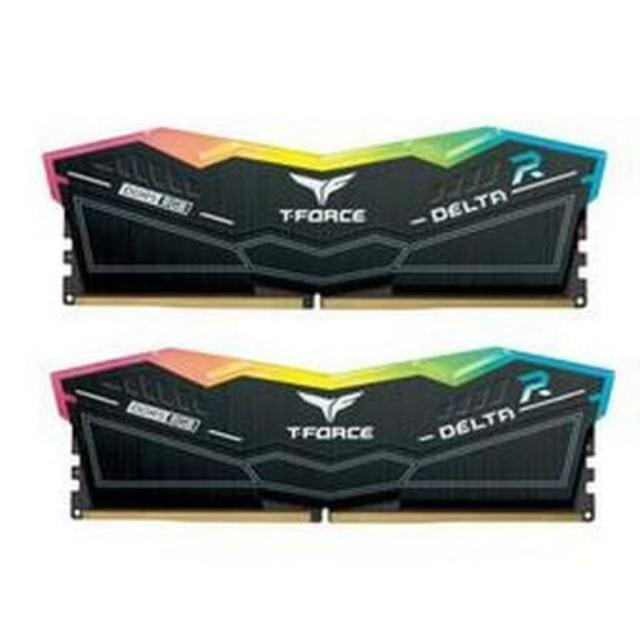RAM: (38, 128, 608, 318), (46, 346, 614, 529)
